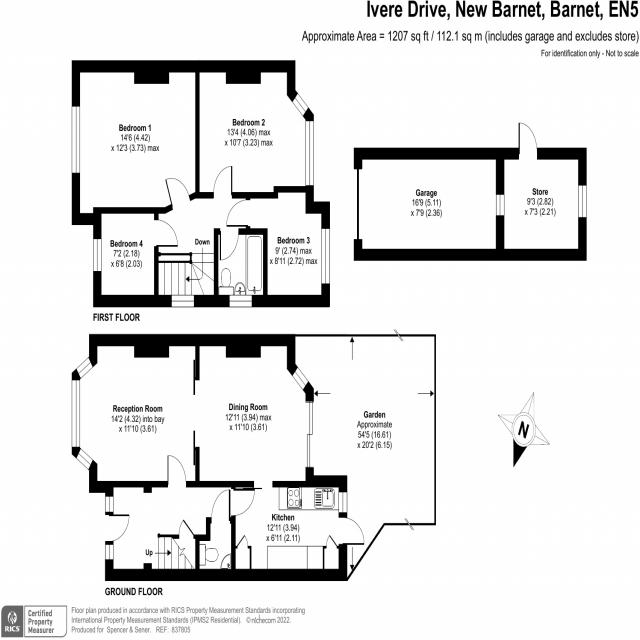DOOR: (164, 177, 191, 210), (338, 516, 365, 546), (210, 488, 231, 524), (105, 513, 130, 542), (231, 487, 255, 517), (226, 198, 250, 228), (212, 165, 233, 199), (167, 454, 187, 488), (154, 219, 178, 247), (219, 228, 239, 261)
ROOM: (71, 60, 200, 225), (71, 334, 200, 493), (195, 333, 315, 487), (195, 60, 314, 199), (231, 475, 365, 581), (226, 186, 330, 308), (93, 207, 178, 308)
WINDOW: (71, 380, 80, 447), (305, 120, 314, 186), (72, 106, 80, 174), (321, 228, 330, 284), (291, 366, 309, 392), (75, 356, 94, 380), (76, 448, 94, 471), (292, 93, 309, 117), (171, 294, 194, 308), (93, 238, 102, 272), (229, 295, 252, 308), (338, 491, 348, 513), (105, 496, 114, 513), (105, 544, 114, 561)
